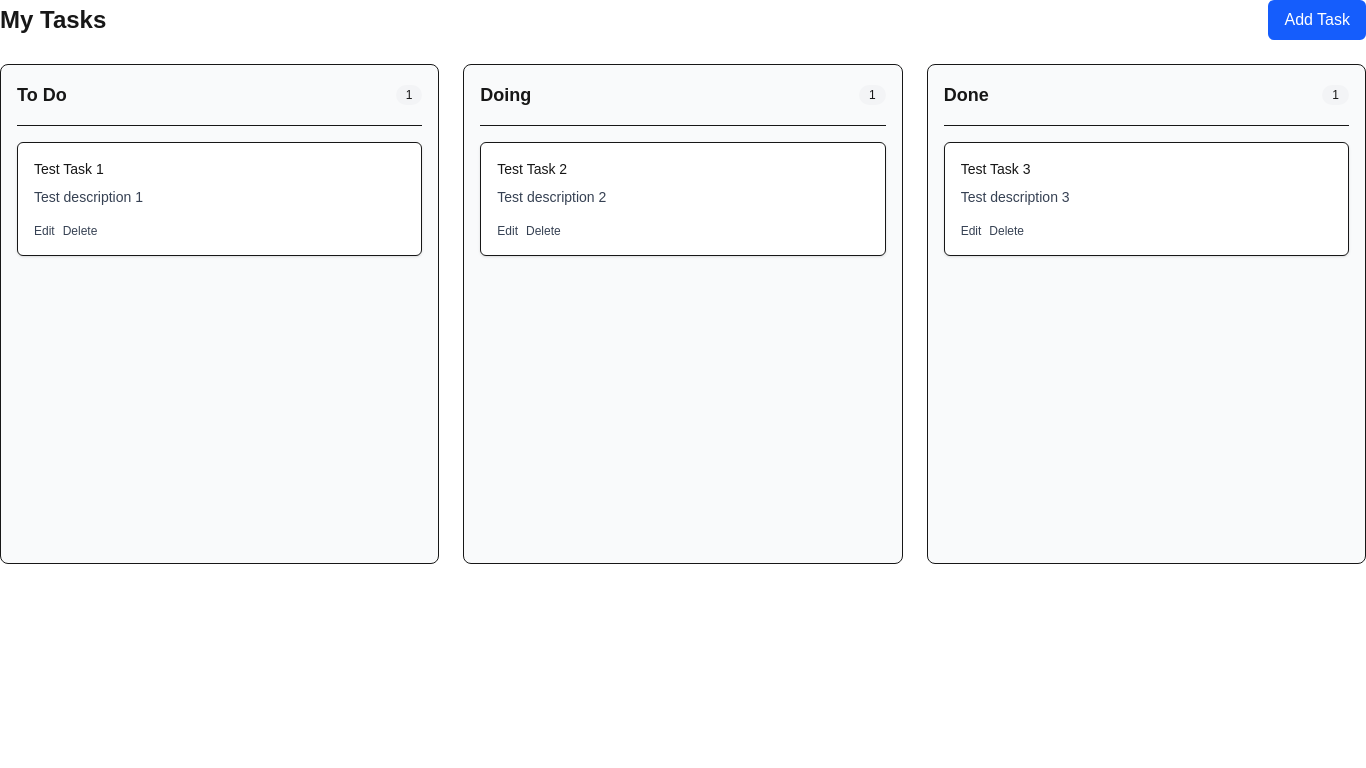
Test: BoardPage › opens edit task modal when a task is clicked
The width and height of the screenshot is (1366, 768).
# Click on a task card
Click the heading "Test Task 1".
click(69, 169)  # box top-left (34, 161), bottom-right (104, 177)
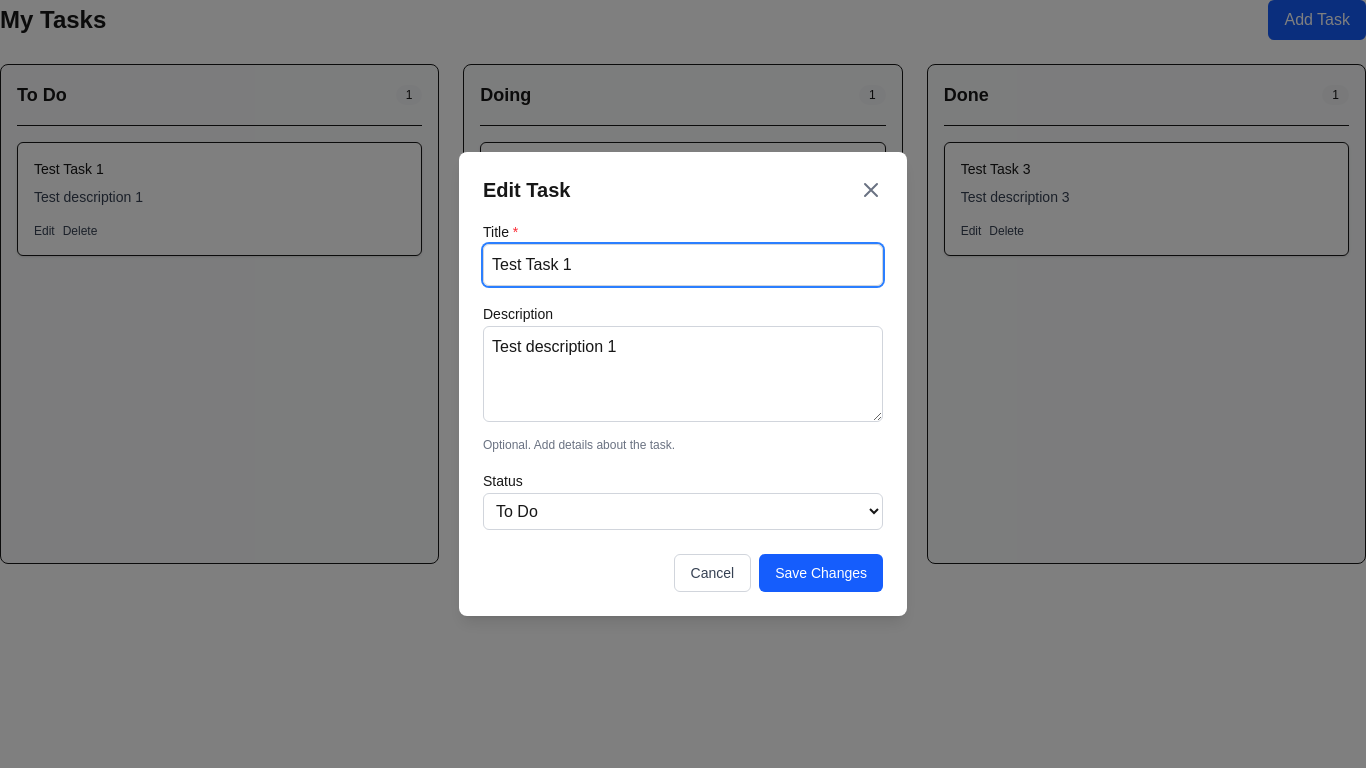
Result: the dialog is shown
Result: the heading "Edit Task" is shown at top-left (483, 176), bottom-right (570, 204)
Result: the field labelled "Title *" holds "Test Task 1" at top-left (483, 244), bottom-right (883, 286)
